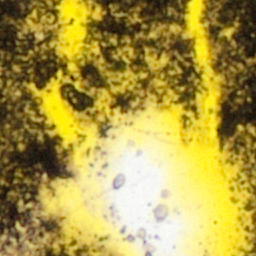cement_matrix: (0, 0, 68, 242), (89, 0, 197, 106), (206, 0, 255, 173), (63, 59, 108, 112), (38, 246, 87, 255), (113, 92, 136, 109), (117, 44, 133, 60), (252, 212, 255, 255), (223, 28, 232, 38), (253, 188, 255, 208), (173, 67, 175, 69)
cracks: (0, 0, 255, 255), (62, 58, 109, 113), (112, 91, 137, 110)
gravel_crushed_stones: (79, 126, 202, 255), (118, 45, 132, 59), (224, 29, 231, 37)
